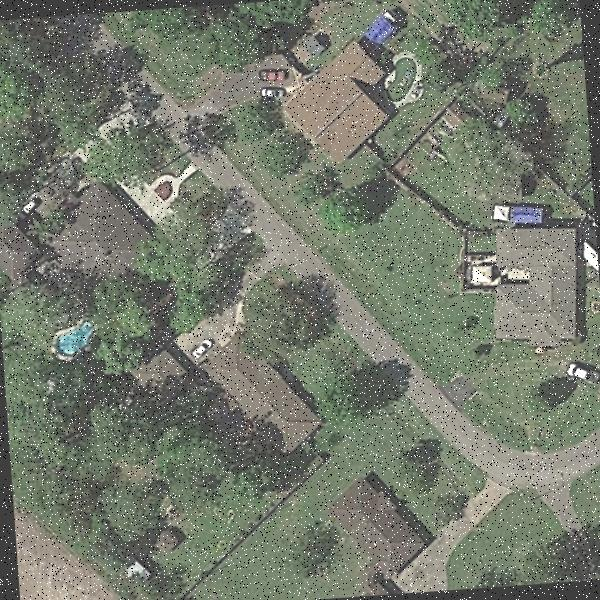Buildings: (487, 226, 582, 352), (294, 56, 390, 159), (215, 347, 307, 452), (52, 184, 154, 273), (340, 483, 418, 580), (132, 346, 188, 384), (0, 220, 39, 273), (442, 100, 473, 128), (484, 84, 514, 110)
